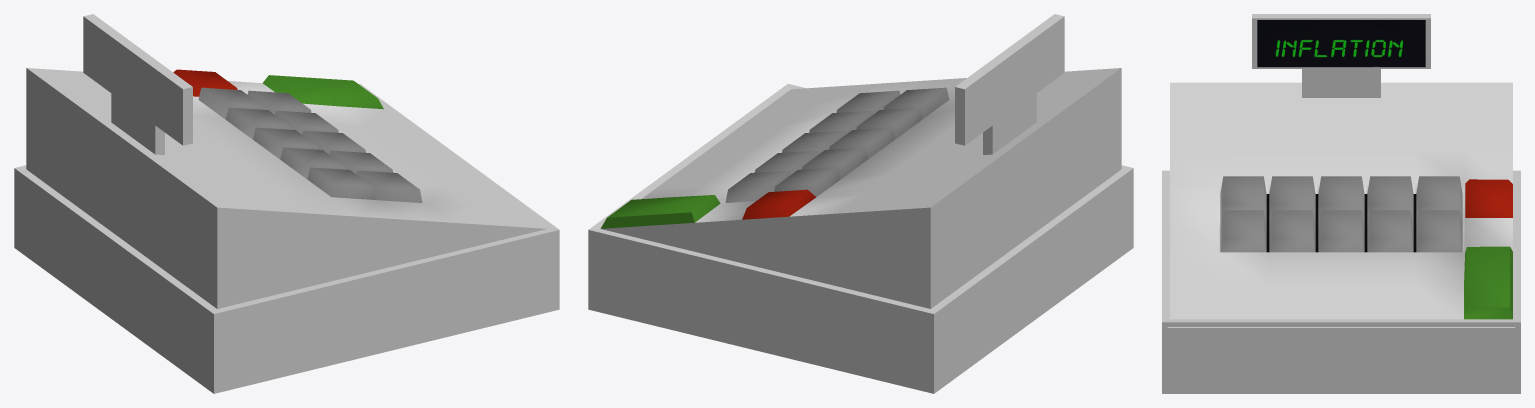
The model's file is Cash register blend.fbx.
3 renders of one model, left to right at view 1: azimuth 30°, elevation 25°; view 2: azimuth 150°, elevation 25°; view 3: azimuth 270°, elevation 25°, orthographic. The views are drawn at different scales.
Visible parts, largest first — view 1: pCube1, pCube2; view 2: pCube1, pCube2; view 3: pCube1, pCube2.
Part boxes in pixels (left/top/right/bottom): pCube1: left=14, top=68, right=559, bottom=393; pCube2: left=83, top=14, right=192, bottom=154; pCube1: left=588, top=68, right=1133, bottom=393; pCube2: left=955, top=14, right=1064, bottom=154; pCube1: left=1162, top=82, right=1520, bottom=393; pCube2: left=1252, top=14, right=1430, bottom=97.
Bounding box in the file's own units: 824 × 595 × 818.
